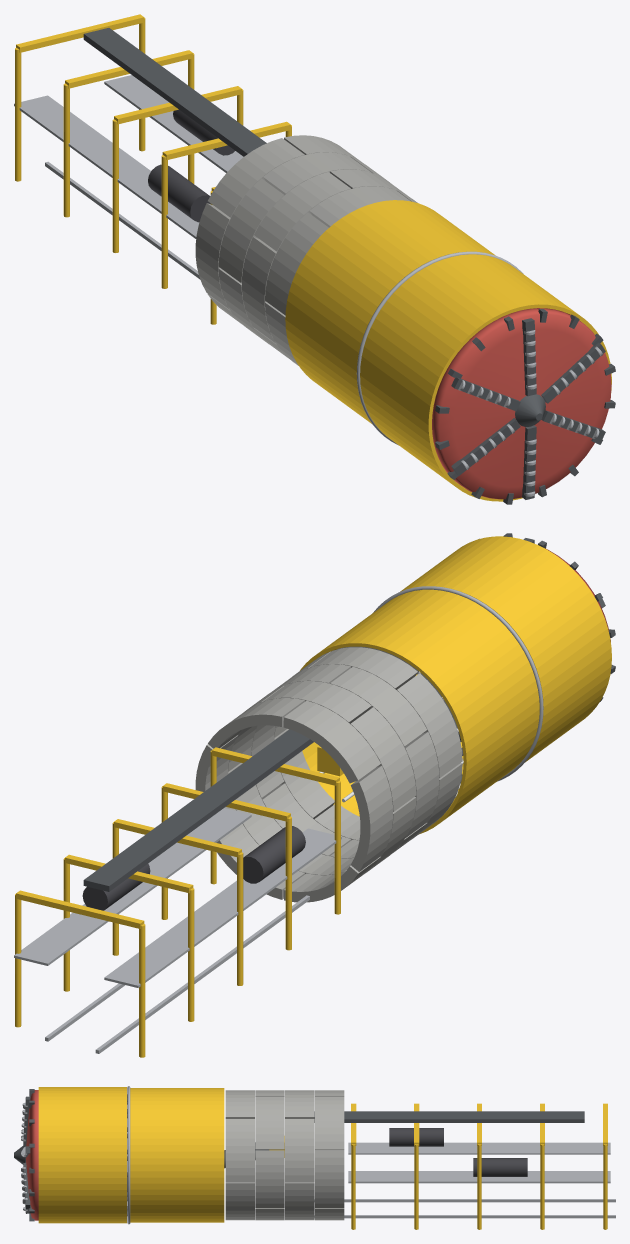
Rendered from full.glb.
3 renders of one model, top to bottom at view 1: azimuth 30°, elevation 25°; view 2: azimuth 150°, elevation 25°; view 3: azimuth 270°, elevation 25°, orthographic. The views are drawn at different scales.
Visible parts, largest first — view 1: shield, cutterhead, backup-gantry, segment-rings; view 2: shield, segment-rings, backup-gantry; view 3: shield, segment-rings, backup-gantry, cutterhead.
Part boxes in pixels (bbox=[...]): shield: bbox=[285, 200, 611, 501]; cutterhead: bbox=[432, 308, 615, 504]; backup-gantry: bbox=[14, 14, 291, 324]; segment-rings: bbox=[195, 135, 417, 365]; shield: bbox=[300, 536, 611, 834]; segment-rings: bbox=[195, 647, 462, 902]; backup-gantry: bbox=[14, 729, 341, 1057]; shield: bbox=[38, 1086, 224, 1224]; segment-rings: bbox=[225, 1090, 344, 1220]; backup-gantry: bbox=[314, 1103, 615, 1229]; cutterhead: bbox=[14, 1089, 38, 1221].
Size of the model in its own units: 6.6 by 6.6 by 28.68.
